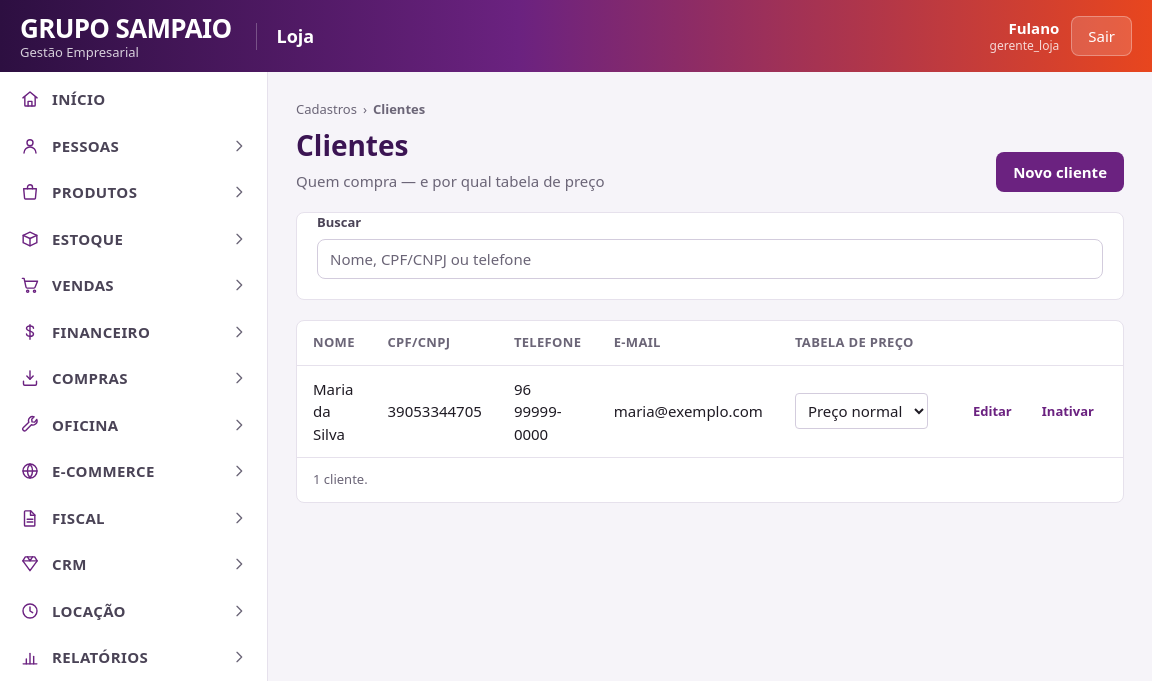
Test case: exportar › baixa o documento que o servidor montou, com nome que diz de quem é
The width and height of the screenshot is (1152, 681).
Click the button with aria-label "Editar cadastro de Maria da Silva": (992, 411) [960,394,1025,428]
(page scrolled)
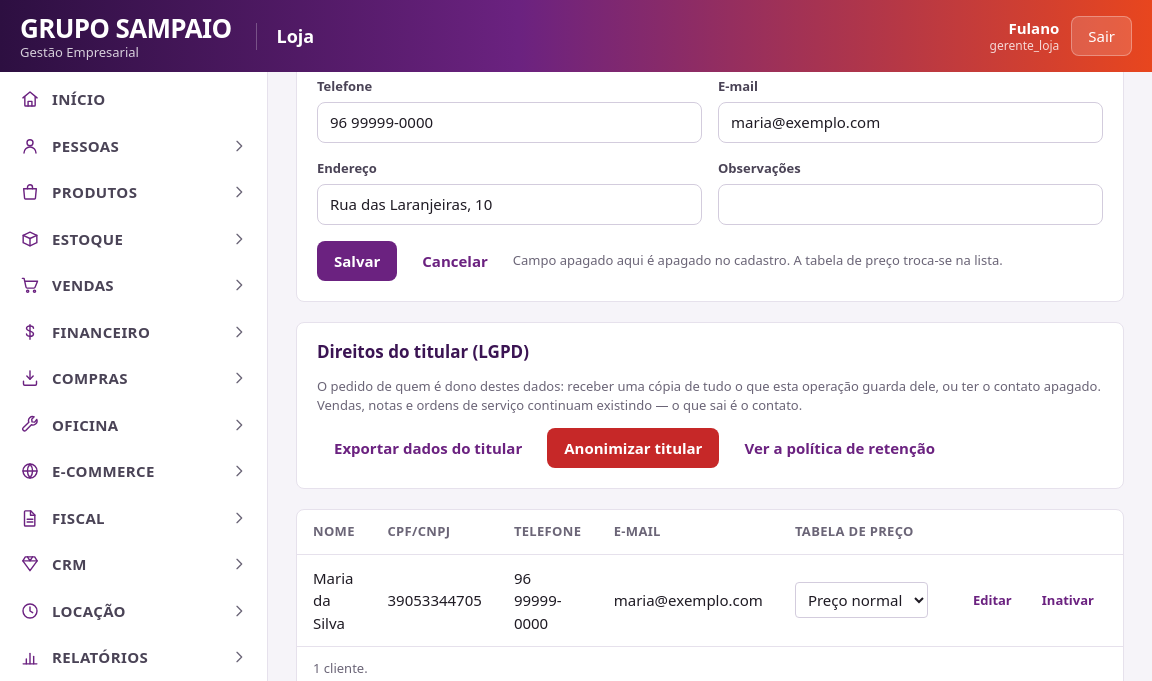
Result: the field labelled "Telefone" holds "96 99999-0000" at [317,102,702,142]
Click the button "Exportar dados do titular": (428, 448) [317,428,539,468]
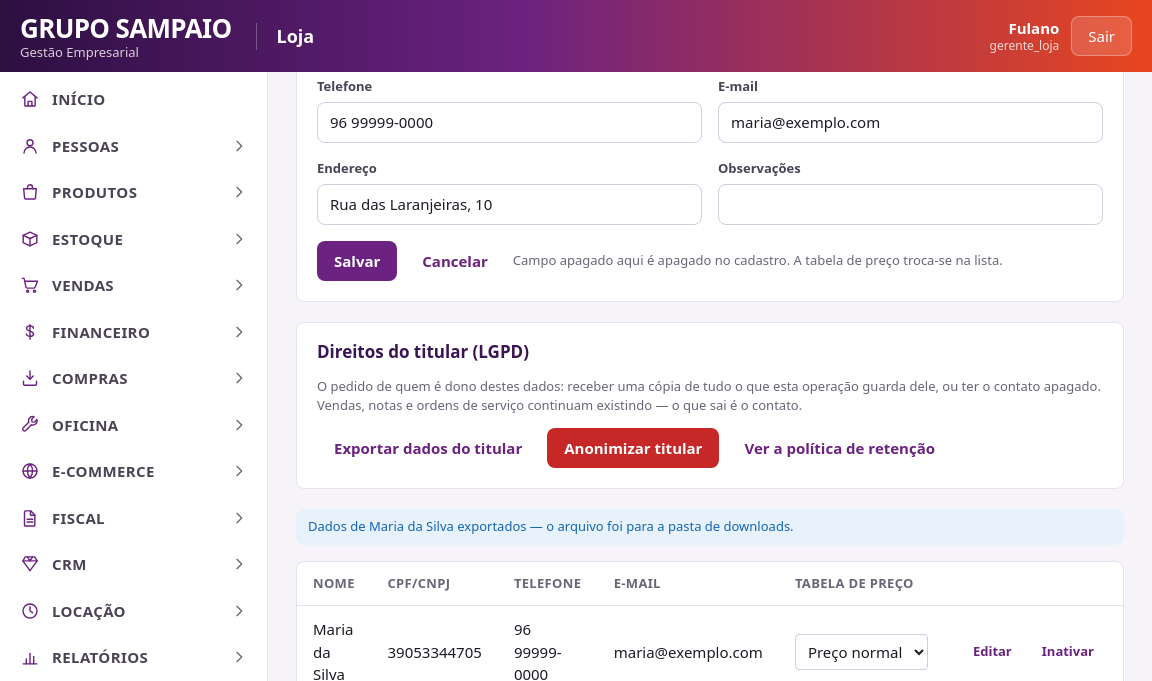
Result: the text "Dados de Maria da Silva exportados — o arquivo foi para a pasta de downloads." is shown at [296,509,1124,544]
